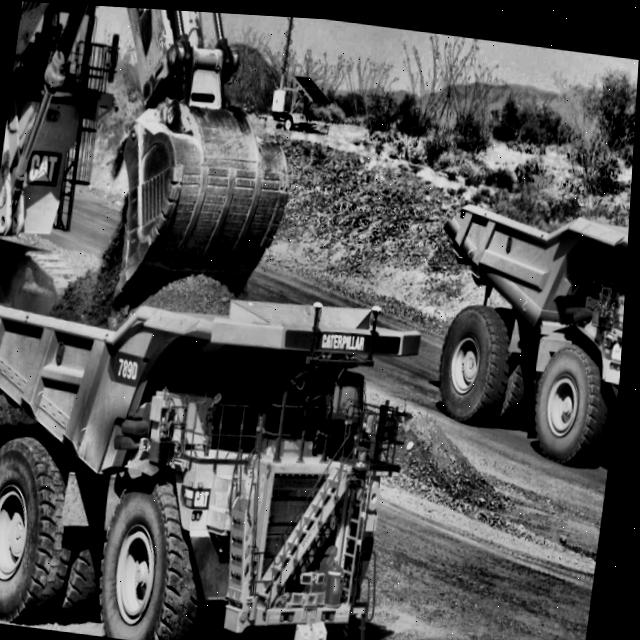dump_truck: (0, 259, 434, 640), (418, 175, 633, 481)
excavator: (0, 0, 313, 371)
